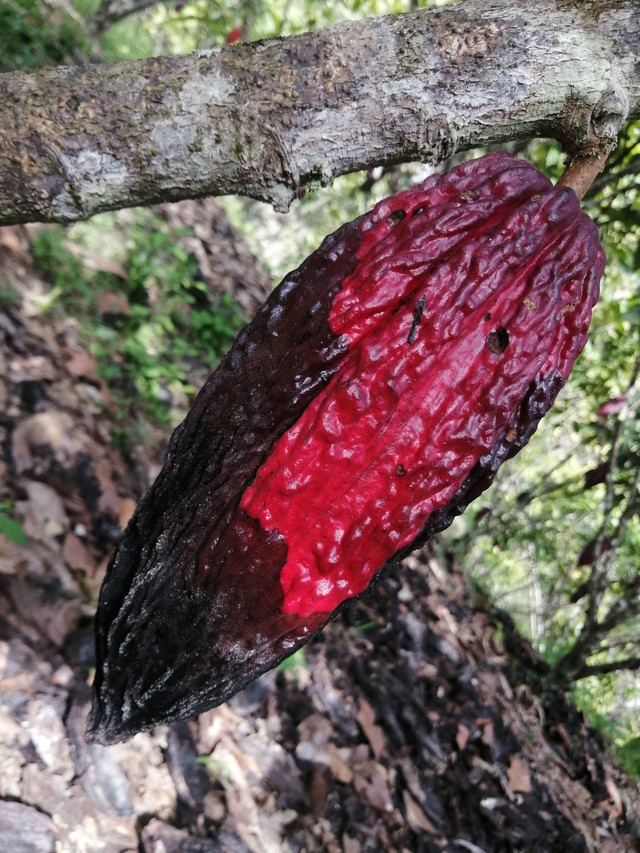moniliophthora roreri: (74, 139, 610, 755)
